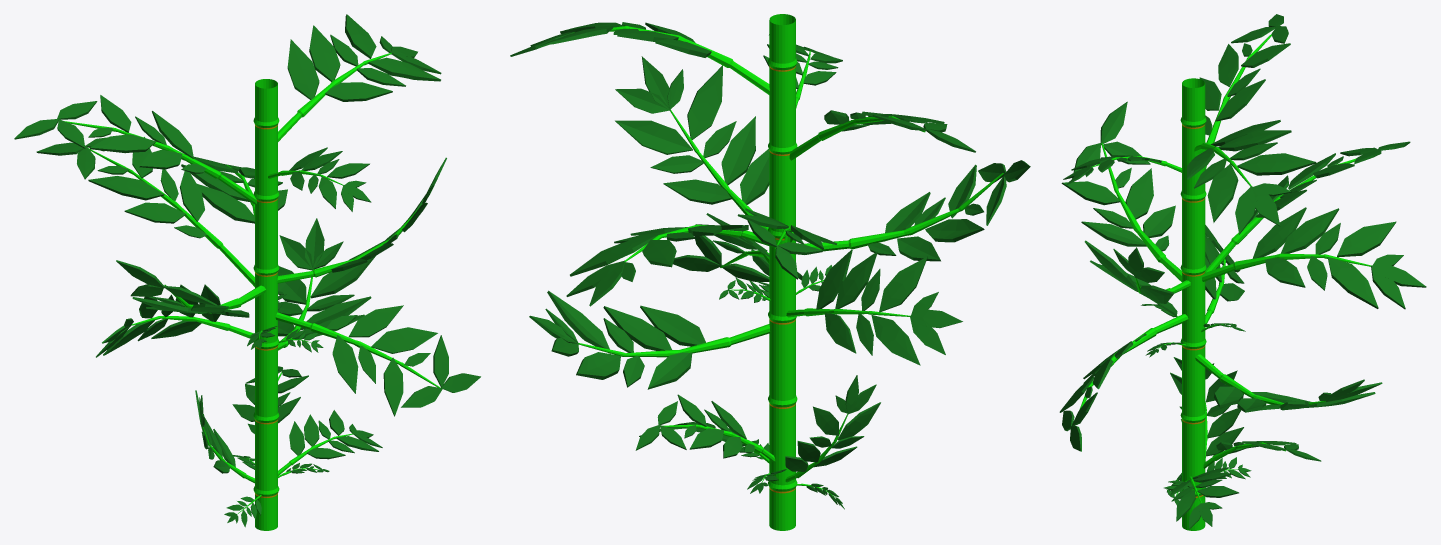
Rendered from Bamboo.glb.
3 renders of one model, left to right at view 1: azimuth 30°, elevation 25°; view 2: azimuth 150°, elevation 25°; view 3: azimuth 270°, elevation 25°, orthographic. The views are drawn at different scales.
Visible parts, largest first — view 1: Circle; view 2: Circle; view 3: Circle.
Boxes of the visible parts, box(x1,y1,x2,y2) form: Circle: box(14, 14, 480, 530); Circle: box(510, 14, 1030, 530); Circle: box(1059, 14, 1426, 530).
Bounding box in the file's own units: 40.7 × 42.14 × 31.64.
